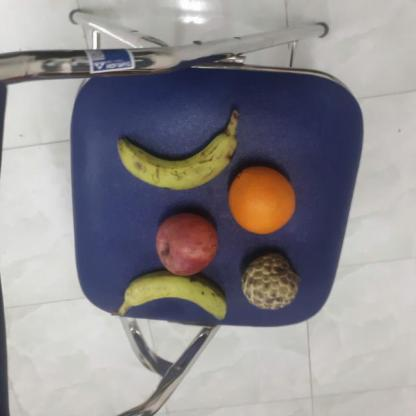annona: (240, 255, 300, 313)
apple: (152, 210, 222, 278)
banana: (116, 127, 238, 194), (121, 272, 236, 328)
orange: (226, 164, 300, 236)
